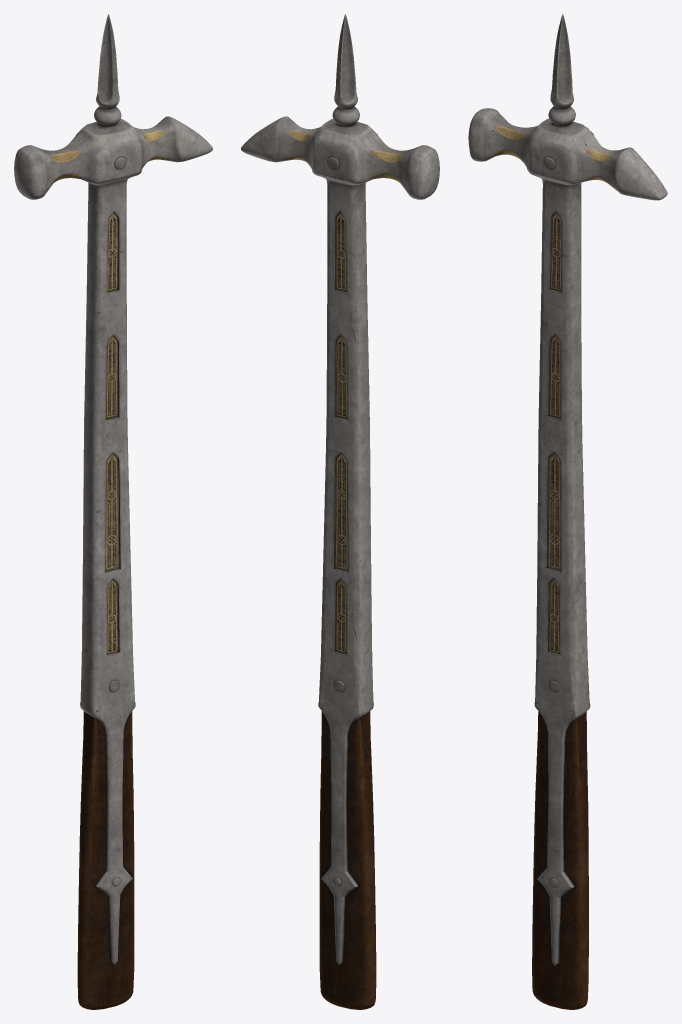
Rendered from ornate_war_hammer_1k.gltf.
The picture shows the model from 3 angles, left to right: view 1: azimuth 30°, elevation 25°; view 2: azimuth 150°, elevation 25°; view 3: azimuth 330°, elevation 25°; orthographic projection.
Parts seen in each view (by area): view 1: ornate_war_hammer; view 2: ornate_war_hammer; view 3: ornate_war_hammer.
Boxes of the visible parts, x1,y1,x2,y2 form: ornate_war_hammer: [14, 14, 212, 1009]; ornate_war_hammer: [241, 14, 439, 1009]; ornate_war_hammer: [468, 14, 667, 1009].
Size of the model in its own units: 0.1441 by 0.7112 by 0.0348.
1 material, 1 textured.
